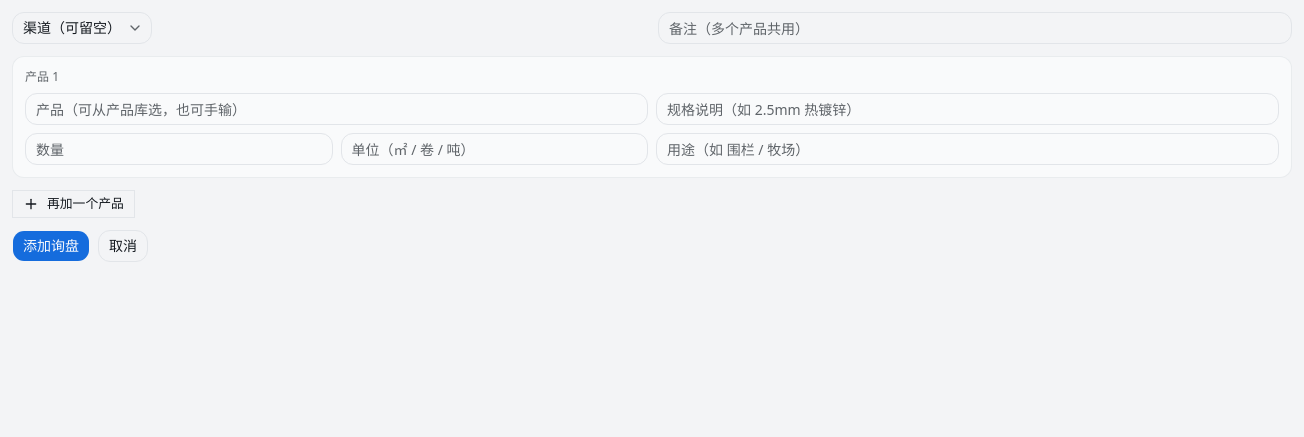
InquiryForm 多产品行 › 默认一行产品；+ 加行、删除行
expect the text "删除" is not shown: met
Click the button "再加一个产品".
click(73, 204)  # box [12,190,135,218]
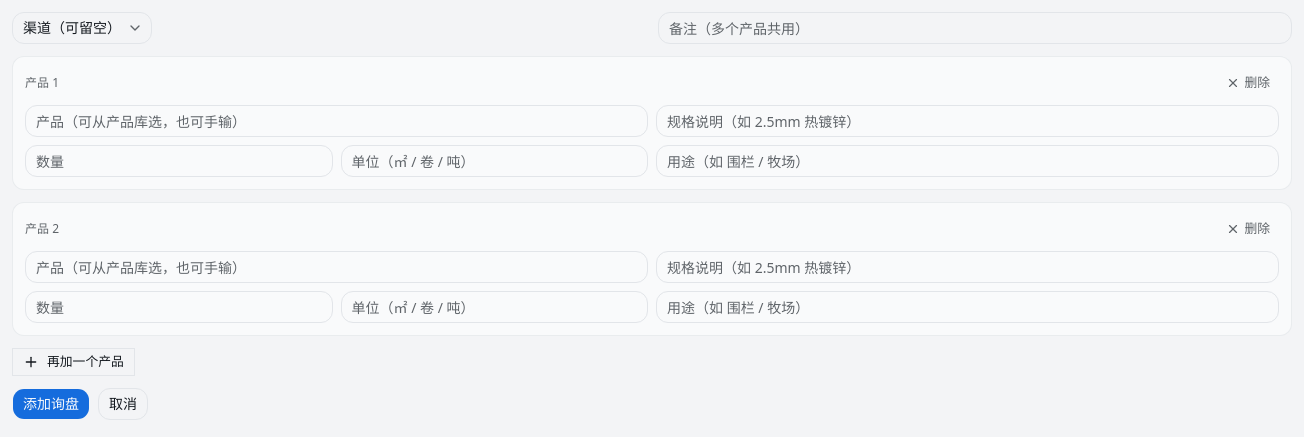
expect the text "产品 2" is shown: met, box [25,221,59,237]
expect the text "删除" is shown: met
Click the 1st button "删除".
click(1248, 83)  # box [1217,69,1279,97]
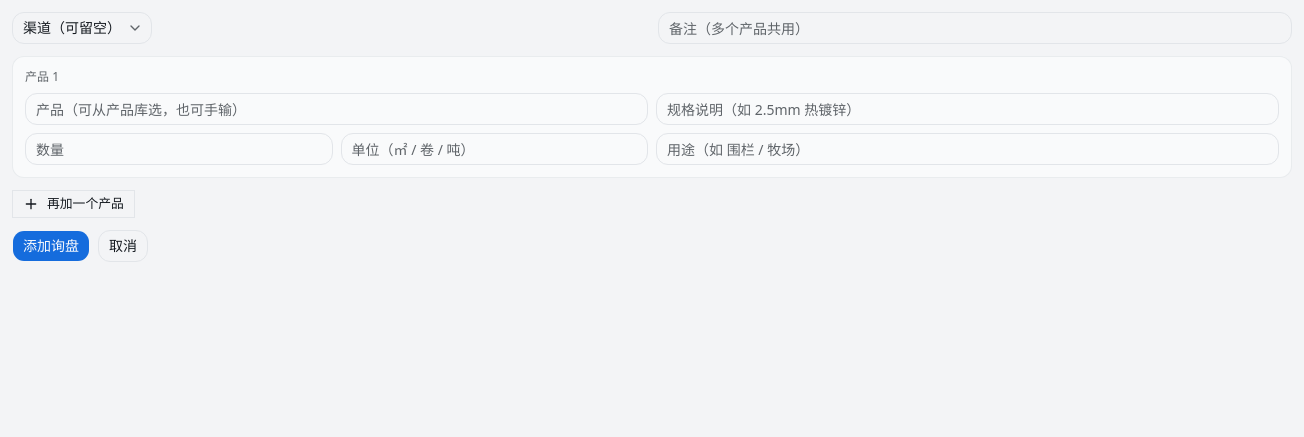
expect the text "产品 2" is gone: met
